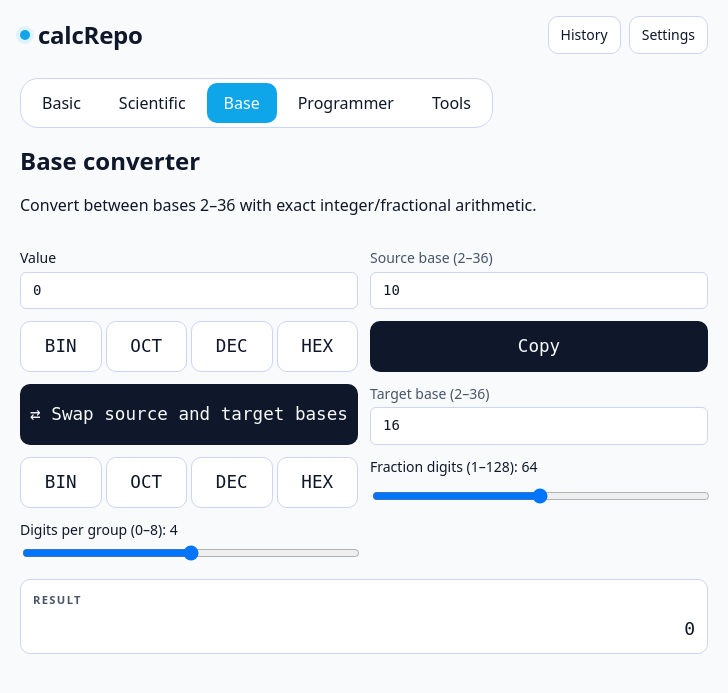
Scenario: BaseView — source/target base input UX › keeps the user-typed text visible when out of range and surfaces an error
The width and height of the screenshot is (728, 693).
Click the tab "Base": click(242, 103) [207,83,277,123]
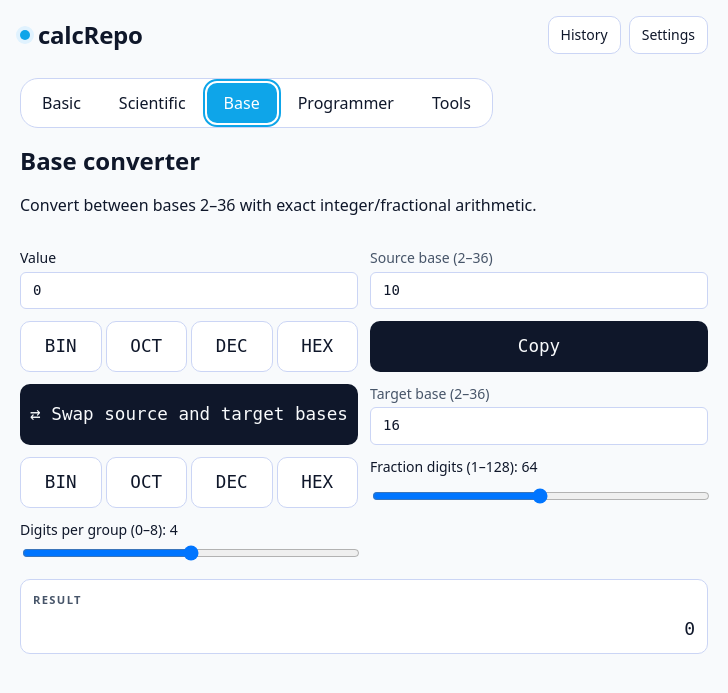
Replace the text in the field with test id "base-source" with "40": (539, 290) [370,272,708,309]
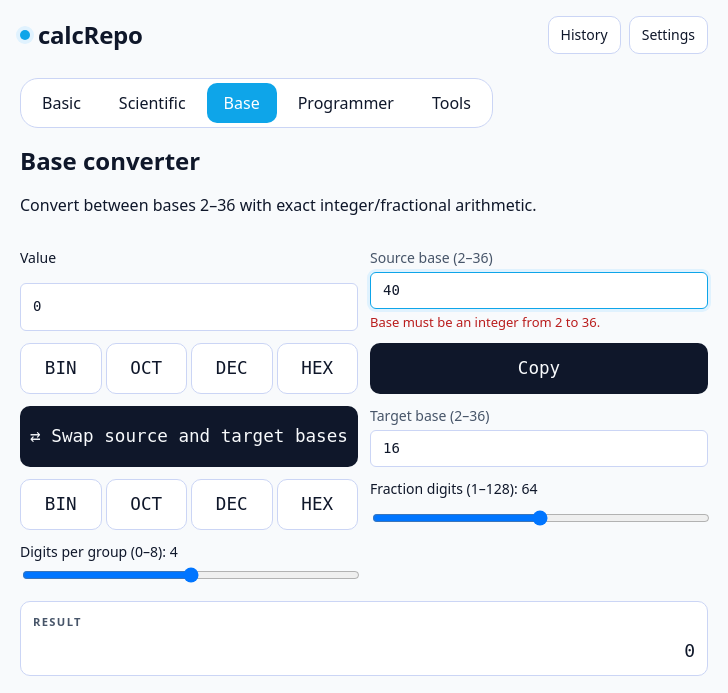
Expected: the text with test id "base-source-error" reads "Base must be an integer from 2 to 36.", [370,313,600,331]
